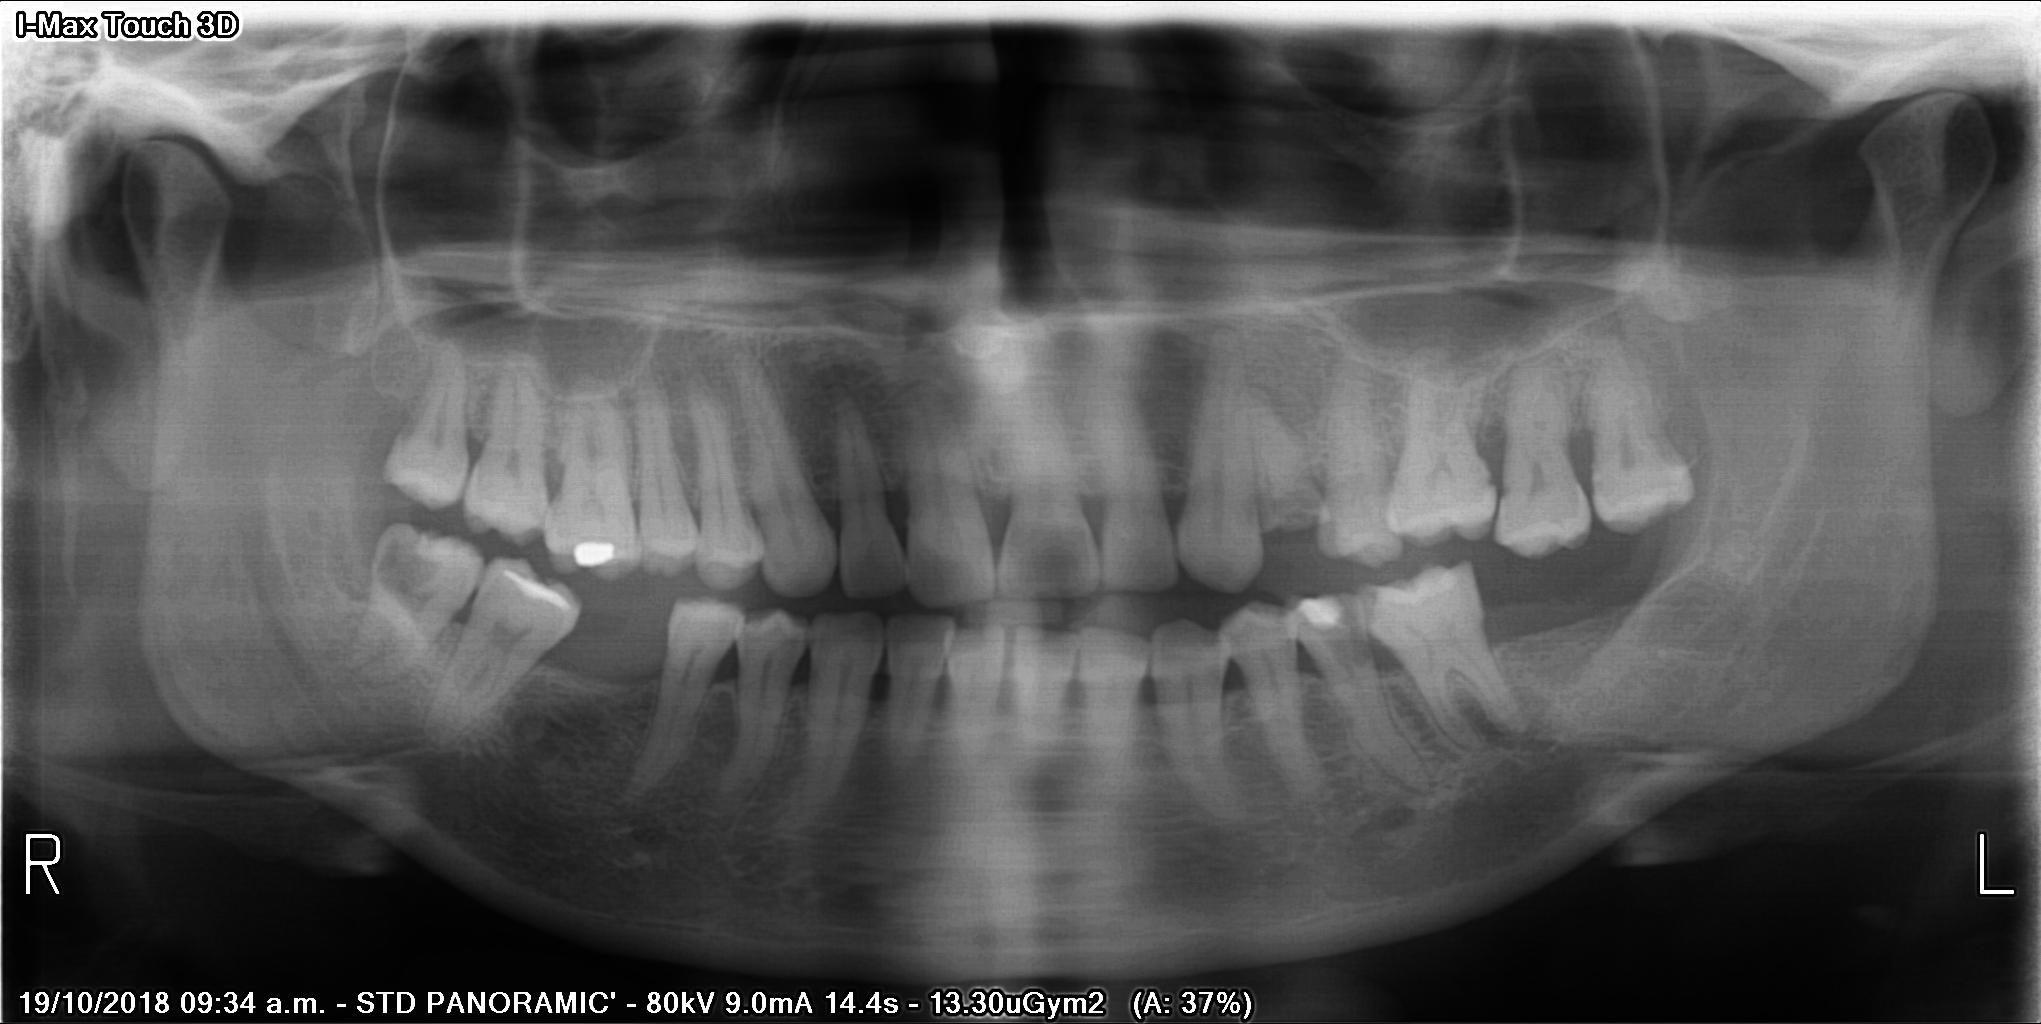Çürük: (568, 529, 624, 571), (1293, 590, 1348, 632)
Çürük Bölgesi: (376, 525, 444, 602), (1348, 577, 1387, 666), (1258, 492, 1319, 539)
